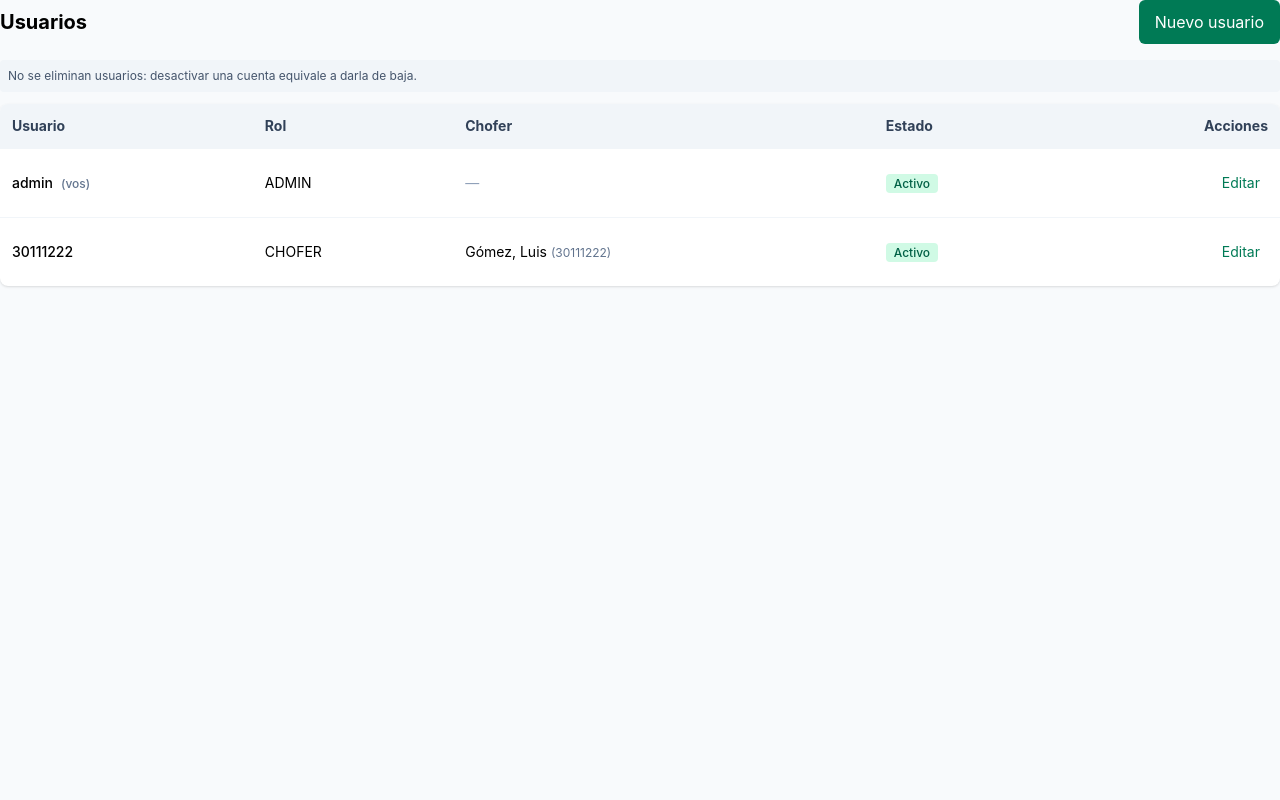
Test case: UsuariosPage › no permite desactivar la cuenta propia
This screenshot has width=1280, height=800.
What coordinates should you click on to do the following:
click the button "Editar" in the row of "(vos)"
I would click on:
 (1241, 183)
Its box is [1214,161,1268,205].
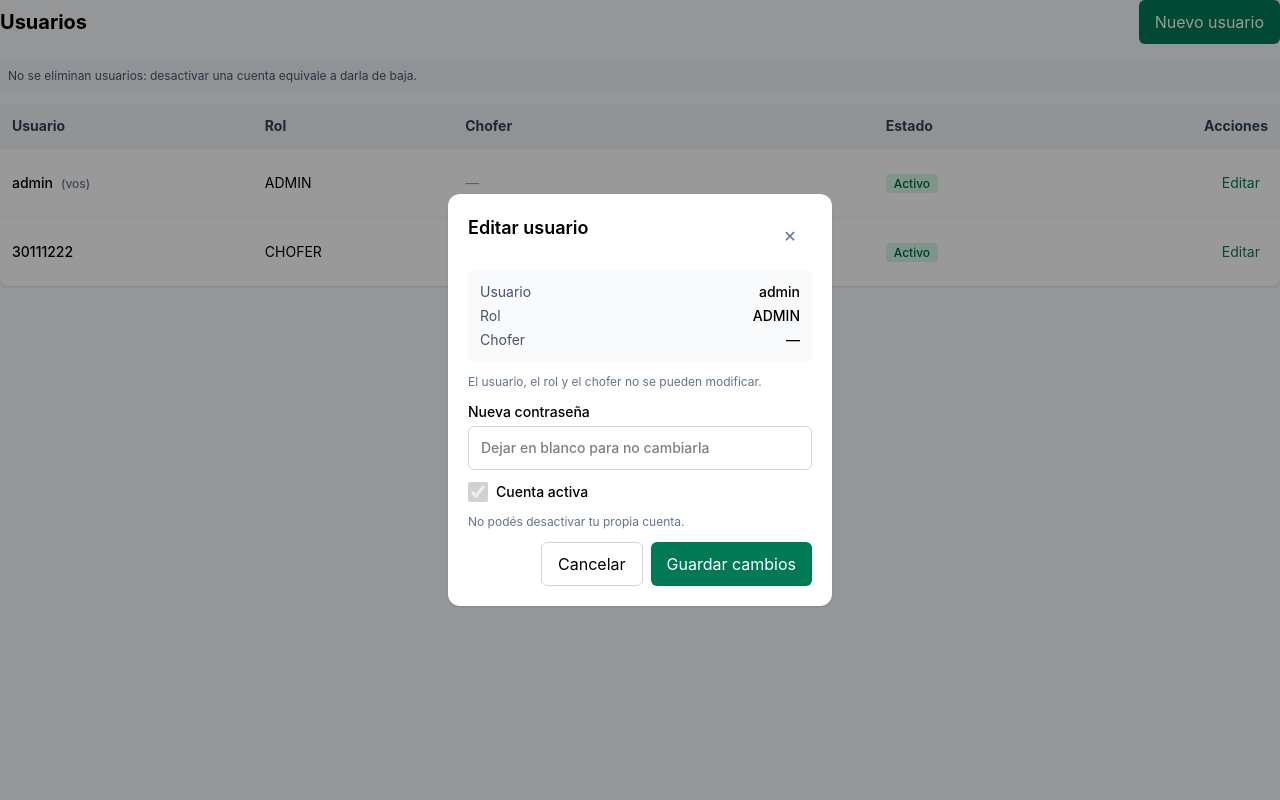
expect the checkbox labelled "Cuenta activa" is disabled: met, box [468,482,488,502]
expect the text "No podés desactivar tu propia cuenta." is shown: met, box [468,514,684,529]
